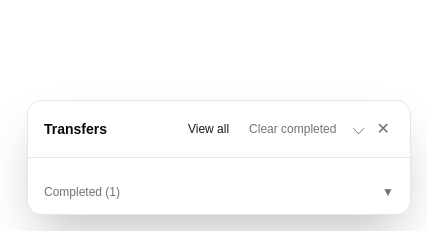
Test: TransferManager — completed section › shows retry button on failed transfers in expanded completed section
Click the button "Completed (1) ▼". click: (82, 192)
box: [40,182,398,202]
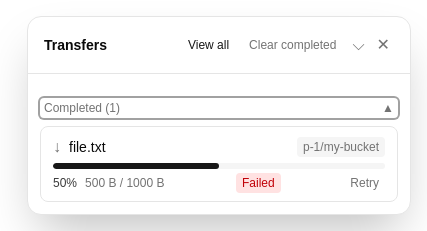
Result: the button "Retry" is shown at [344,173,385,193]
